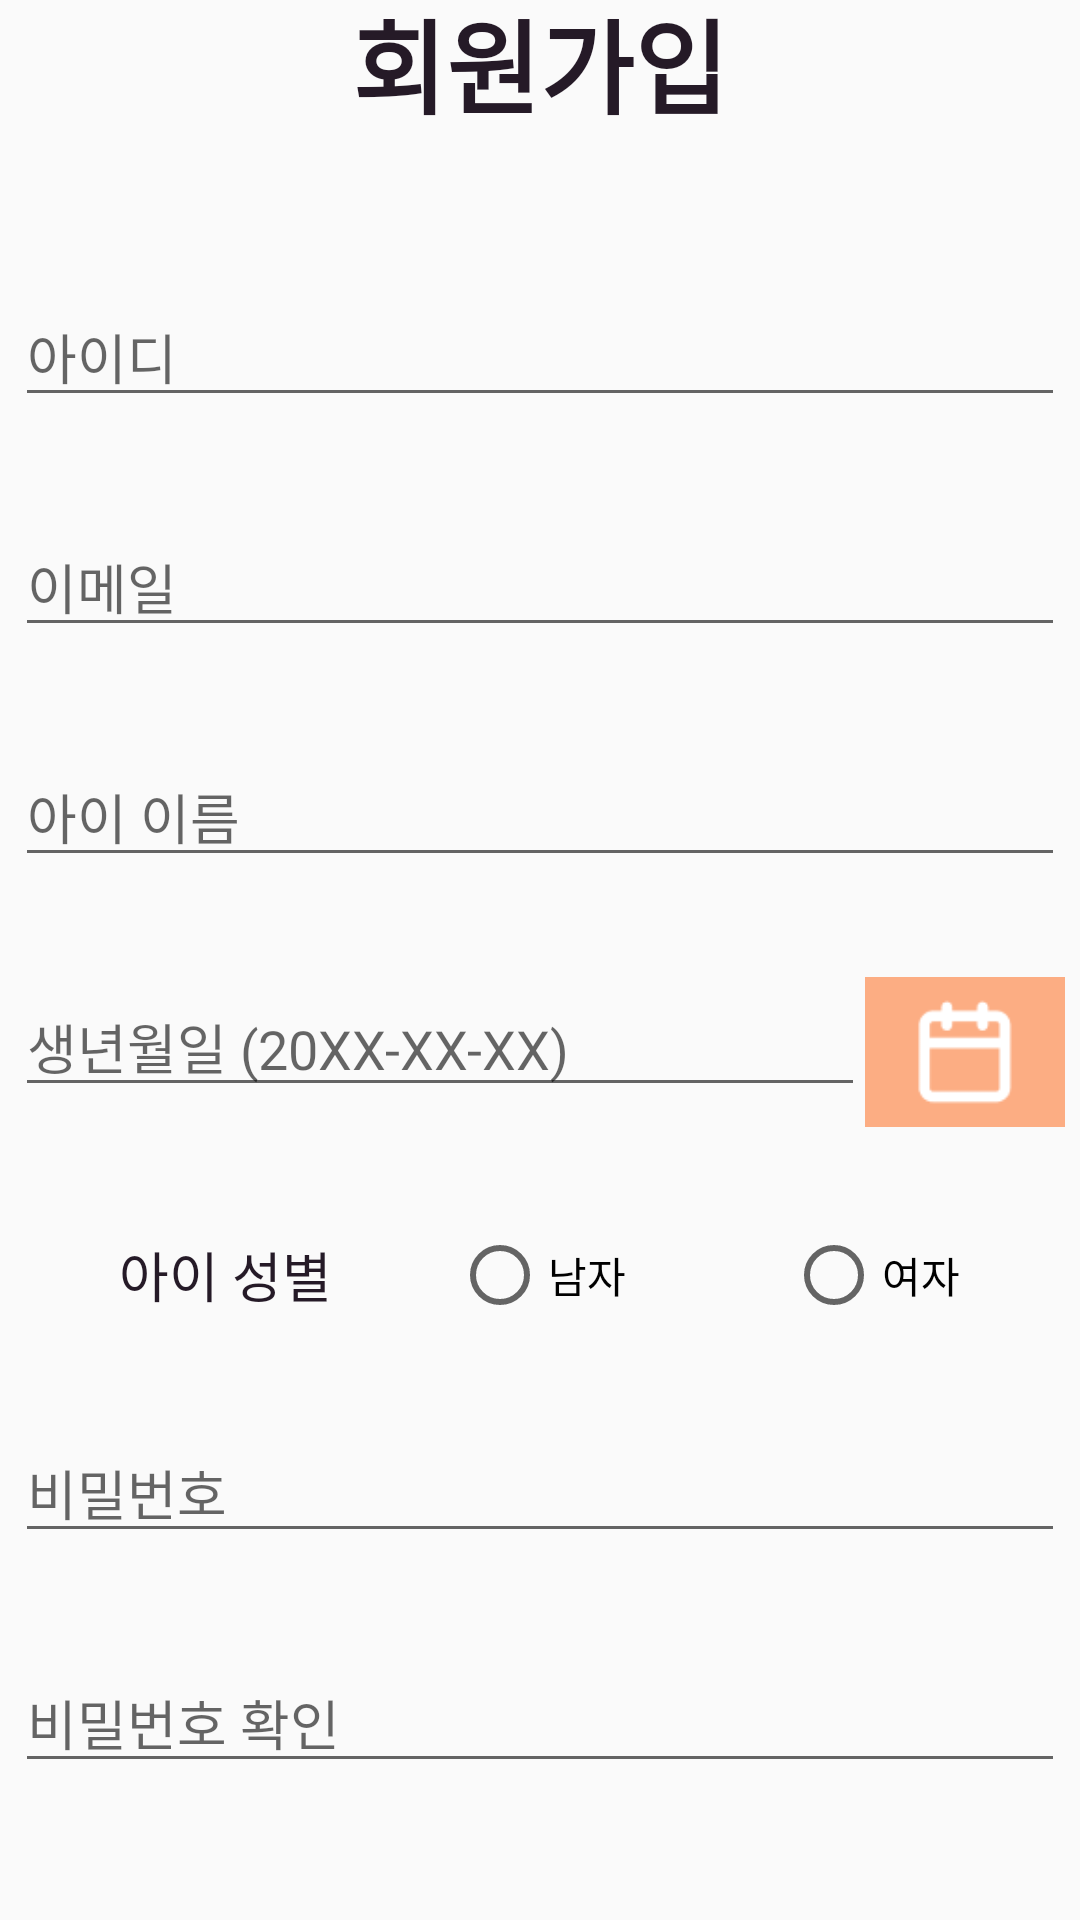

Where icons sit on this 1080 x 1920 app screen, as {"left": x1, "top": y1, "right": x2, "bottom": y2}:
calendar: {"left": 865, "top": 977, "right": 1065, "bottom": 1127}
